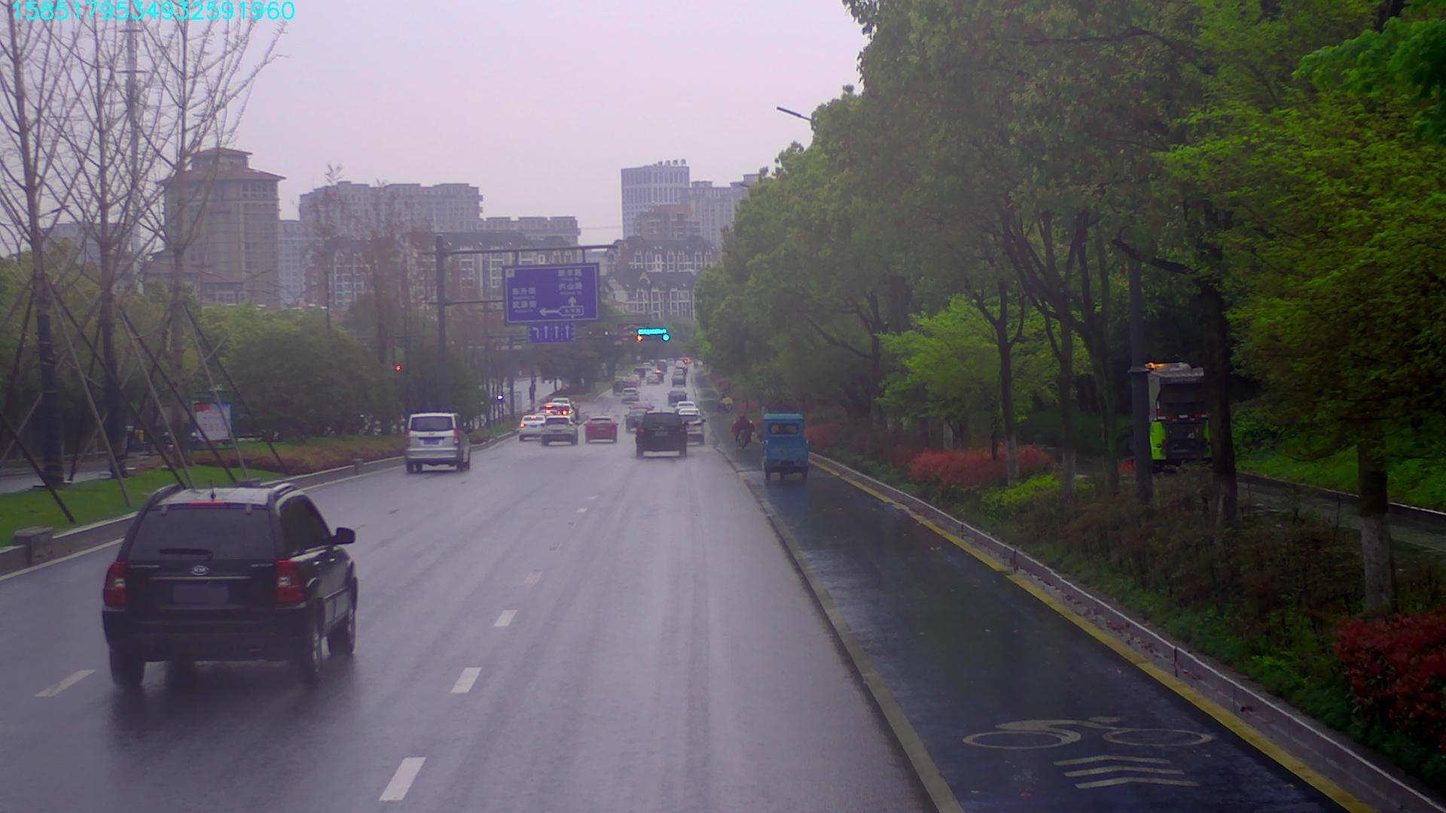green: (654, 330, 672, 342)
red: (631, 333, 648, 340)
wait_on: (633, 324, 667, 334)
